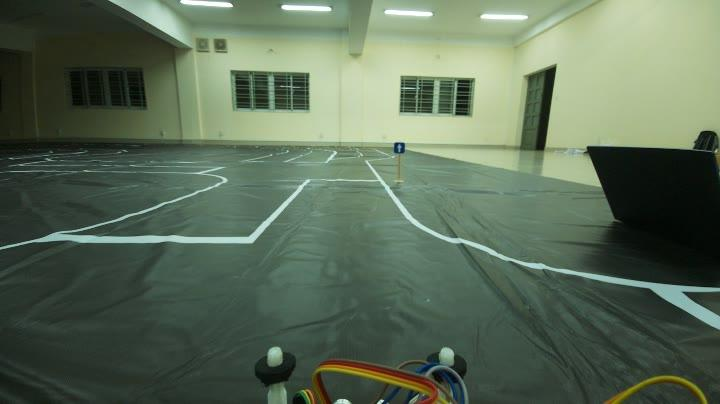onewayroad: (389, 138, 411, 156)
